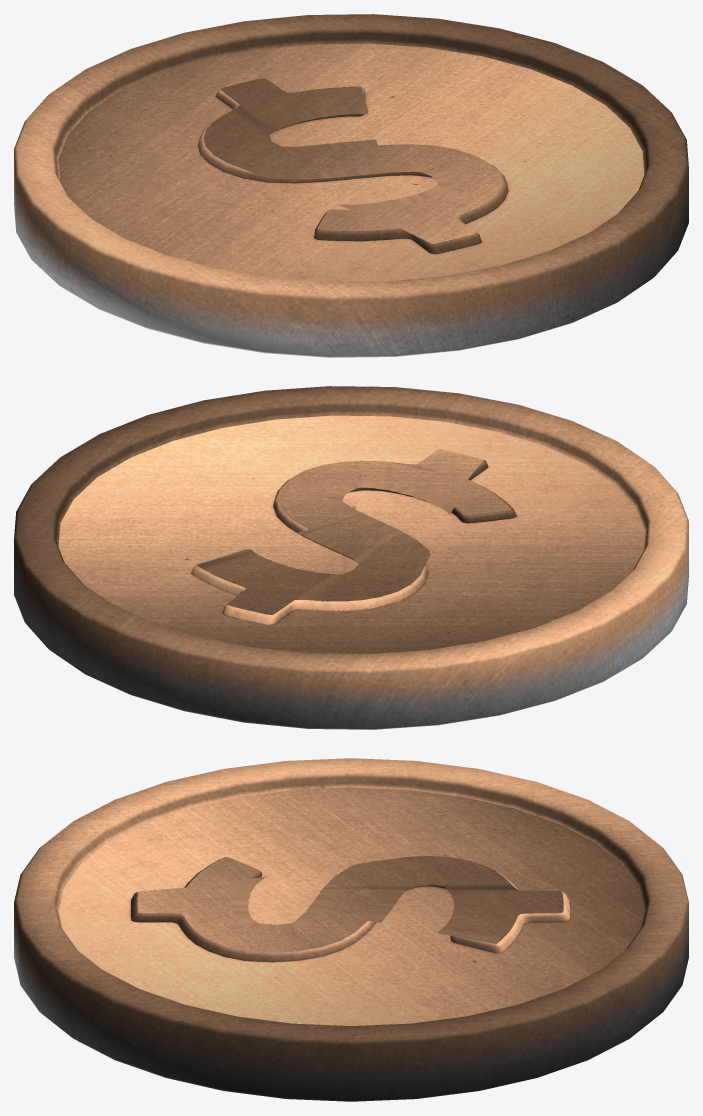
File: coin.fbx
3 renders of one model, top to bottom at view 1: azimuth 30°, elevation 25°; view 2: azimuth 150°, elevation 25°; view 3: azimuth 270°, elevation 25°, orthographic.
Parts seen in each view (by area): view 1: Coin; view 2: Coin; view 3: Coin.
Part boxes in pixels (x1,y1,x2,y2): Coin: (14,14,688,357); Coin: (14,386,688,729); Coin: (14,758,688,1101).
Size of the model in its own units: 200 by 20 by 200.
